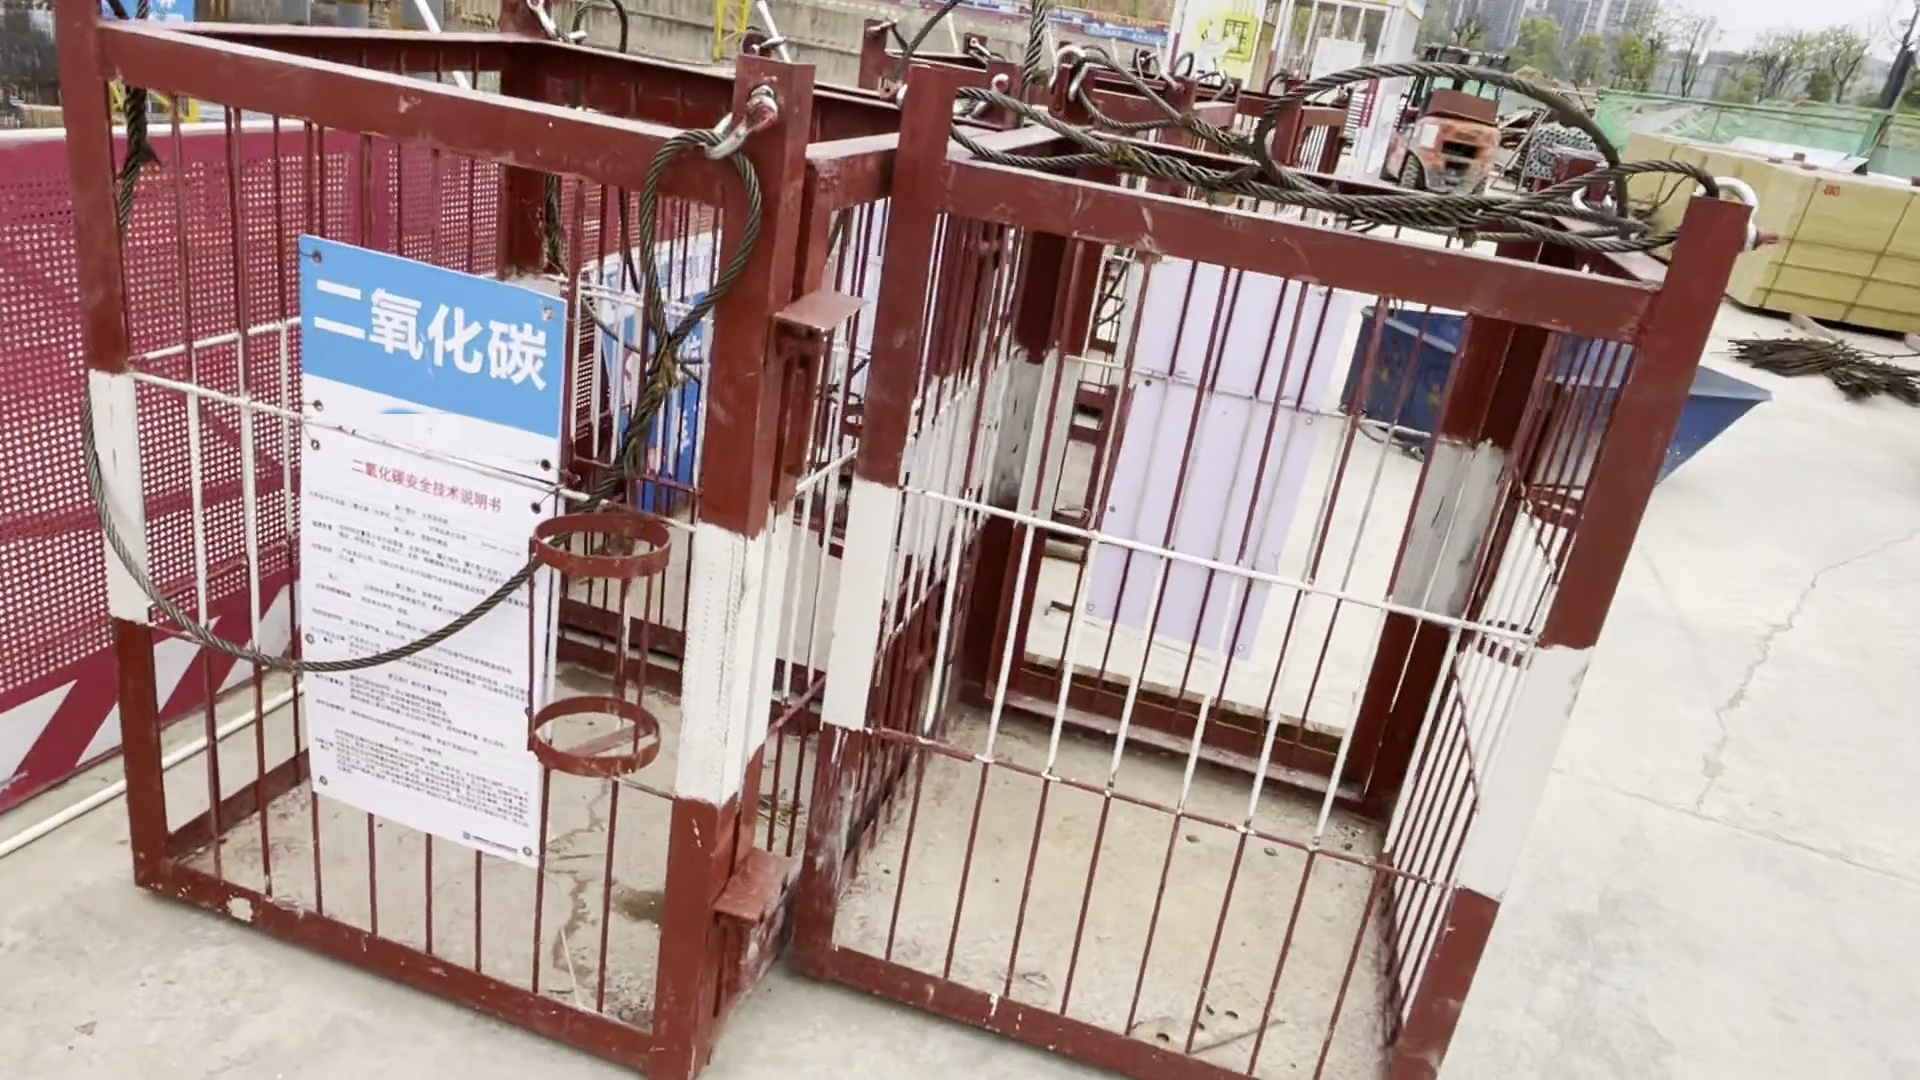slogan: (266, 222, 549, 837)
